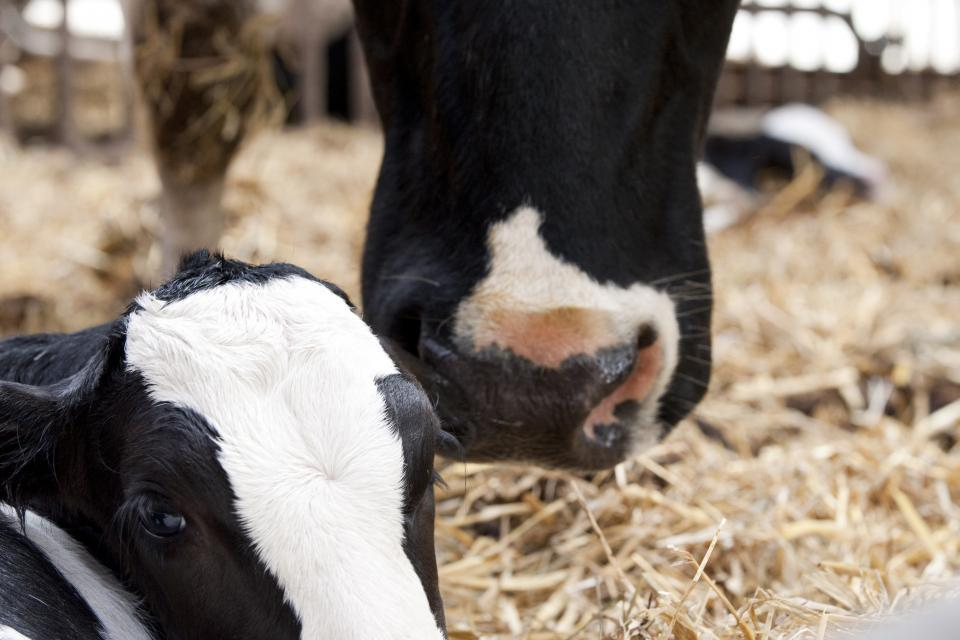muzzles: (365, 259, 711, 489)
